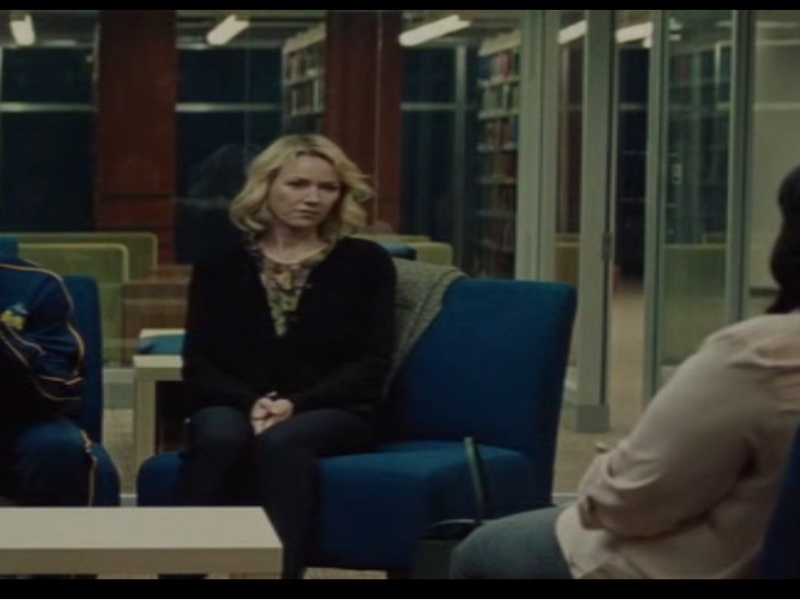TsisyArotava: (261, 138, 350, 241)
